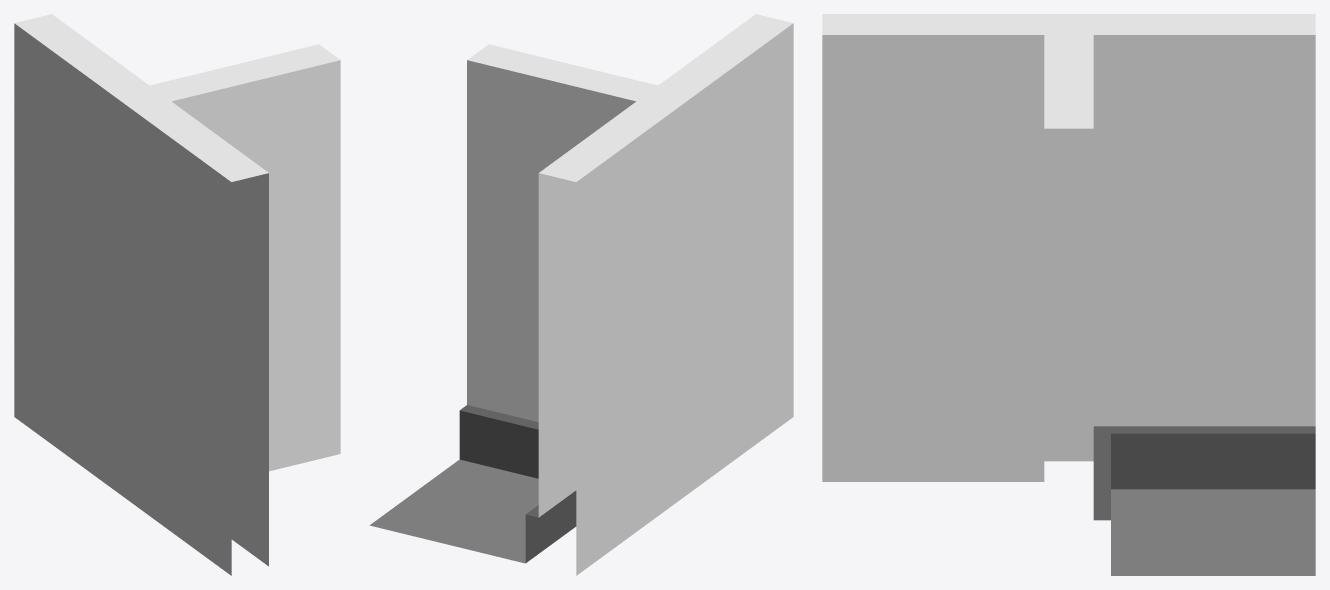
Rendered from E_Wall_T_Shape_Elevator_L.fbx.
The picture shows the model from 3 angles, left to right: view 1: azimuth 30°, elevation 25°; view 2: azimuth 150°, elevation 25°; view 3: azimuth 270°, elevation 25°; orthographic projection. The views are drawn at different scales.
Visible parts, largest first — view 1: E_Wall_T_Shape_Elevator_L; view 2: E_Wall_T_Shape_Elevator_L; view 3: E_Wall_T_Shape_Elevator_L.
Boxes of the visible parts, <box> form: E_Wall_T_Shape_Elevator_L: <box>14,14,340,575</box>; E_Wall_T_Shape_Elevator_L: <box>369,14,793,575</box>; E_Wall_T_Shape_Elevator_L: <box>822,14,1315,575</box>.
Bounding box in the file's own units: 110 × 200 × 200.
